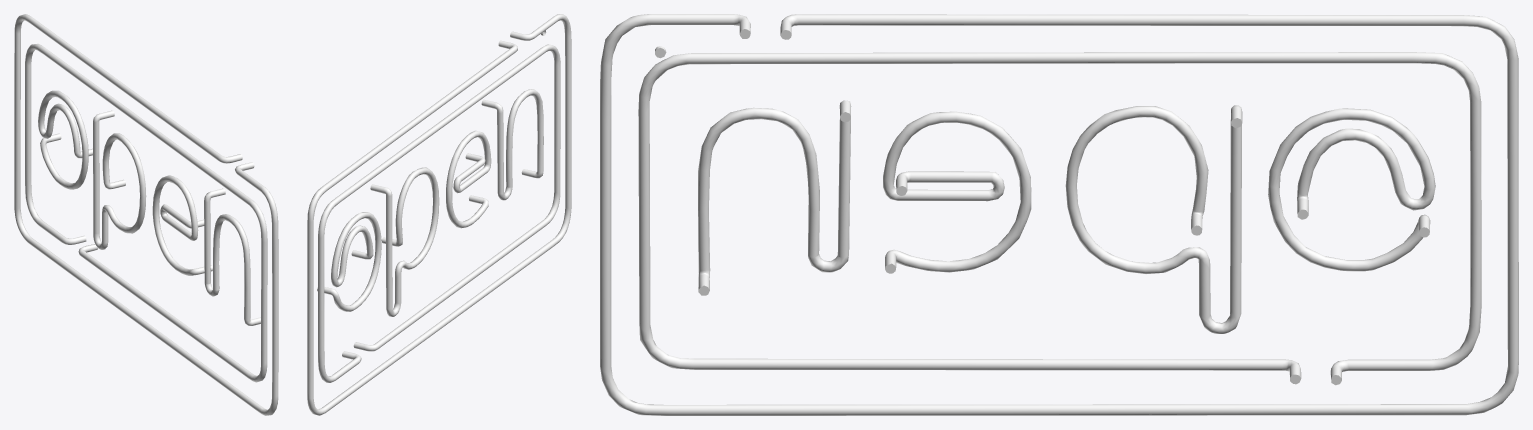
Rendered from SM_LED_Open_01a.fbx.
The picture shows the model from 3 angles, left to right: view 1: azimuth 30°, elevation 25°; view 2: azimuth 150°, elevation 25°; view 3: azimuth 270°, elevation 25°; orthographic projection. The views are drawn at different scales.
Visible parts, largest first — view 1: SM_LED_Open_01a_LOD0; view 2: SM_LED_Open_01a_LOD0; view 3: SM_LED_Open_01a_LOD0.
Part boxes in pixels (bbox=[...]): SM_LED_Open_01a_LOD0: bbox=[14, 14, 278, 415]; SM_LED_Open_01a_LOD0: bbox=[307, 14, 571, 415]; SM_LED_Open_01a_LOD0: bbox=[600, 14, 1518, 415].
Size of the model in its own units: 1.8 by 40.27 by 19.4.
